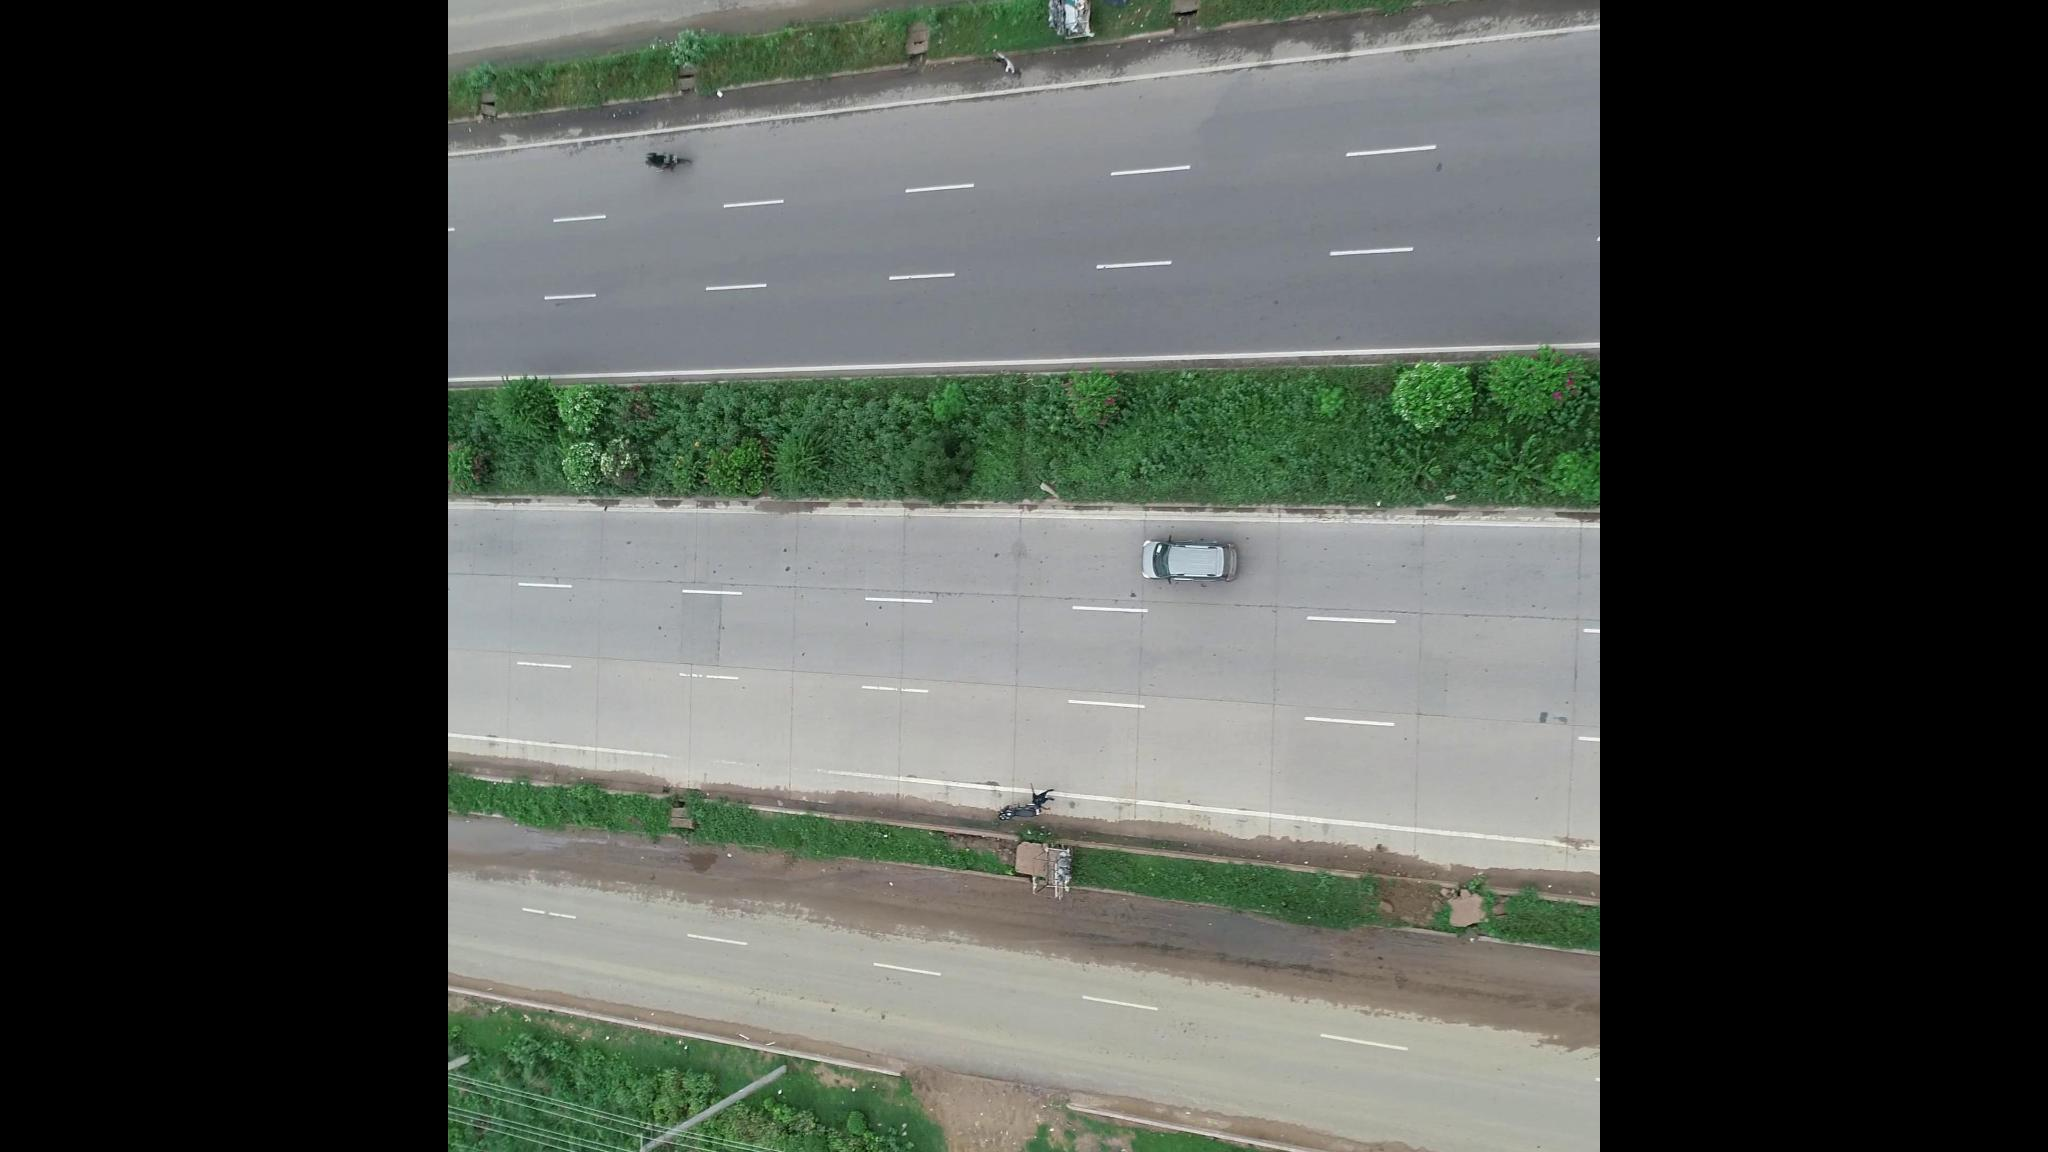Muddy_road: (1137, 904, 1452, 1030), (788, 873, 1072, 954)
